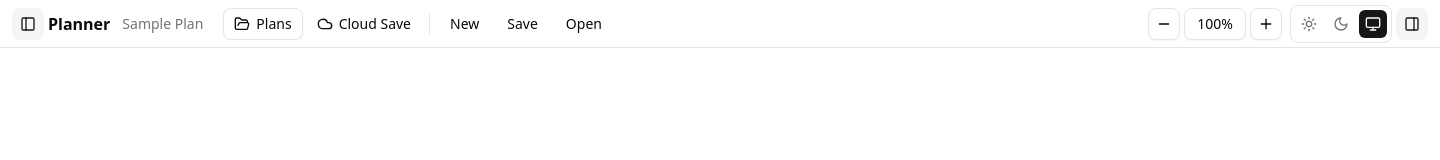
Scenario: TopBar › cancels rename on Escape without mutating the store
Click the button "Sample Plan": (163, 24) [114,10,211,38]
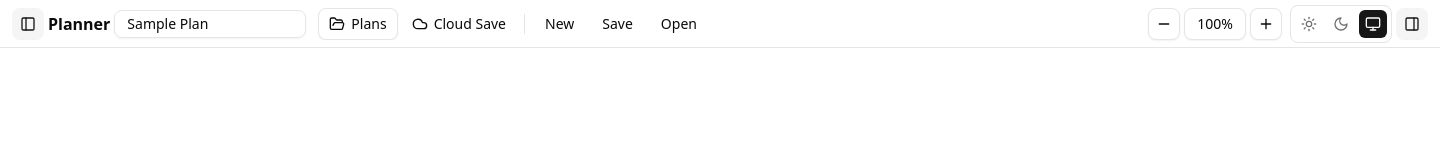
Replace the text in the field named "Project name" with "Discarded": (210, 24) [114,10,306,38]
Then press Escape
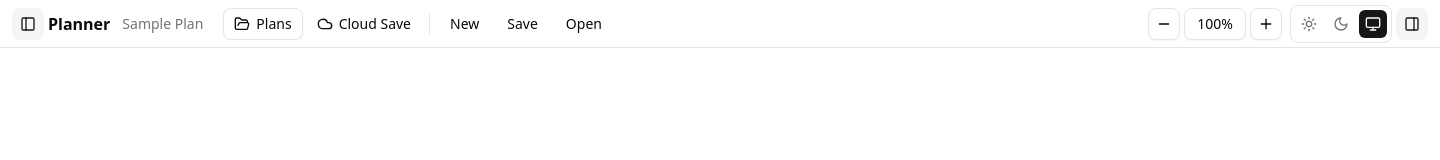
Expected: the button "Sample Plan" is shown, [114,10,211,38]
